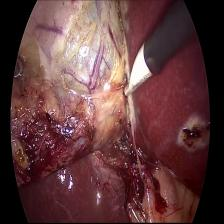Hook: (122, 40, 153, 108)
